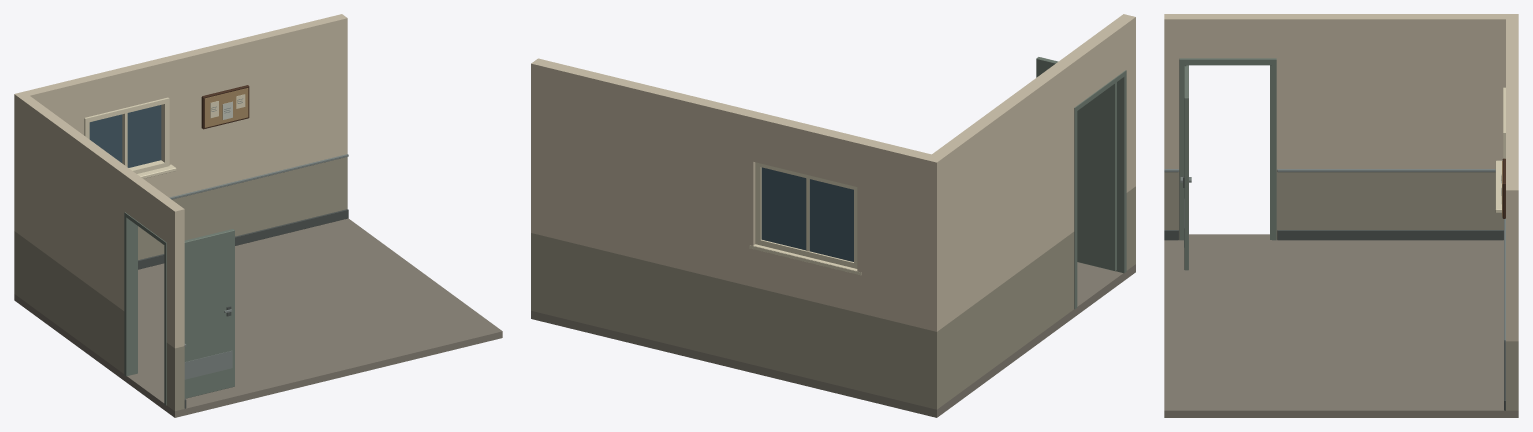
Rendered from WaterworksVisitorRegistration_Architecture.fbx.
The picture shows the model from 3 angles, left to right: view 1: azimuth 30°, elevation 25°; view 2: azimuth 150°, elevation 25°; view 3: azimuth 270°, elevation 25°; orthographic projection. The views are drawn at different scales.
Visible parts, largest first — view 1: WaterworksRegistration_BackWall, WaterworksRegistration_Floor, WaterworksRegistration_LeftWall, WaterworksRegistration_EntranceDoor, WaterworksRegistration_BackWindow, WaterworksRegistration_EntranceFrame, WaterworksRegistration_WallTrim, WaterworksRegistration_Noticeboard; view 2: WaterworksRegistration_BackWall, WaterworksRegistration_LeftWall, WaterworksRegistration_BackWindow, WaterworksRegistration_EntranceDoor, WaterworksRegistration_Floor, WaterworksRegistration_EntranceFrame; view 3: WaterworksRegistration_Floor, WaterworksRegistration_LeftWall, WaterworksRegistration_BackWall, WaterworksRegistration_WallTrim, WaterworksRegistration_EntranceFrame, WaterworksRegistration_EntranceDoor, WaterworksRegistration_BackWindow.
Boxes of the visible parts, bbox=[...] form: WaterworksRegistration_BackWall: bbox=[14, 14, 347, 297]; WaterworksRegistration_Floor: bbox=[14, 218, 502, 417]; WaterworksRegistration_LeftWall: bbox=[20, 96, 184, 411]; WaterworksRegistration_EntranceDoor: bbox=[184, 229, 234, 398]; WaterworksRegistration_BackWindow: bbox=[84, 97, 176, 178]; WaterworksRegistration_EntranceFrame: bbox=[124, 212, 166, 405]; WaterworksRegistration_WallTrim: bbox=[138, 154, 348, 408]; WaterworksRegistration_Noticeboard: bbox=[201, 85, 249, 129]; WaterworksRegistration_BackWall: bbox=[531, 58, 943, 409]; WaterworksRegistration_LeftWall: bbox=[932, 14, 1135, 404]; WaterworksRegistration_BackWindow: bbox=[749, 162, 861, 275]; WaterworksRegistration_EntranceDoor: bbox=[1036, 57, 1116, 270]; WaterworksRegistration_Floor: bbox=[531, 262, 1135, 417]; WaterworksRegistration_EntranceFrame: bbox=[1074, 70, 1126, 309]; WaterworksRegistration_Floor: bbox=[1164, 234, 1518, 417]; WaterworksRegistration_LeftWall: bbox=[1164, 14, 1505, 239]; WaterworksRegistration_BackWall: bbox=[1506, 14, 1518, 410]; WaterworksRegistration_WallTrim: bbox=[1164, 169, 1505, 410]; WaterworksRegistration_EntranceFrame: bbox=[1179, 58, 1276, 240]; WaterworksRegistration_EntranceDoor: bbox=[1180, 65, 1191, 270]; WaterworksRegistration_BackWindow: bbox=[1495, 87, 1505, 212].
Bounding box in the file's own units: 4.65 × 2.79 × 3.94.
